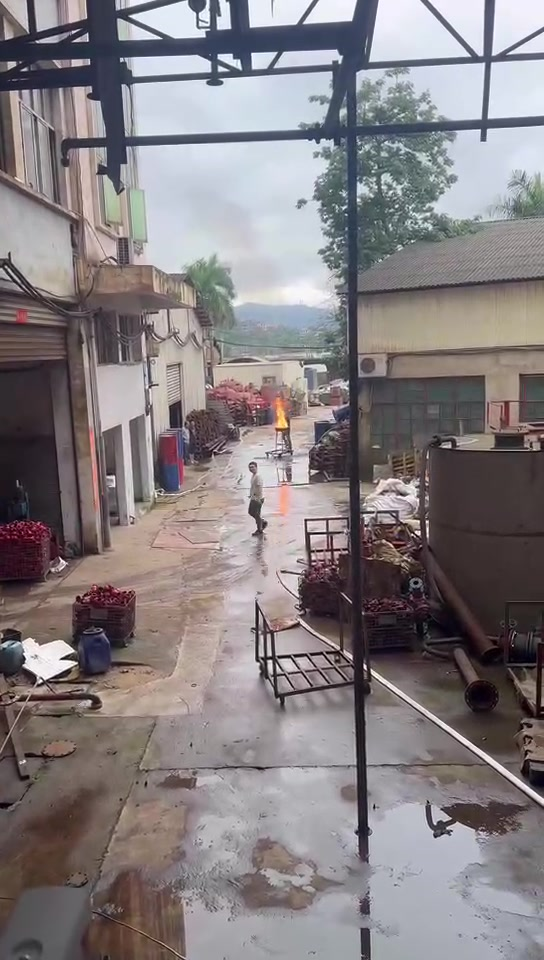fire: (273, 396, 287, 426)
